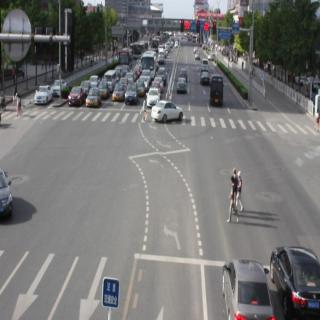BigCar: (140, 46, 156, 72)
Car: (213, 252, 278, 320), (269, 239, 320, 320), (148, 97, 187, 126), (210, 71, 225, 112), (33, 82, 53, 108), (84, 84, 102, 108), (111, 78, 125, 107), (125, 80, 140, 107), (67, 84, 83, 107), (197, 67, 210, 89), (177, 74, 189, 97)
